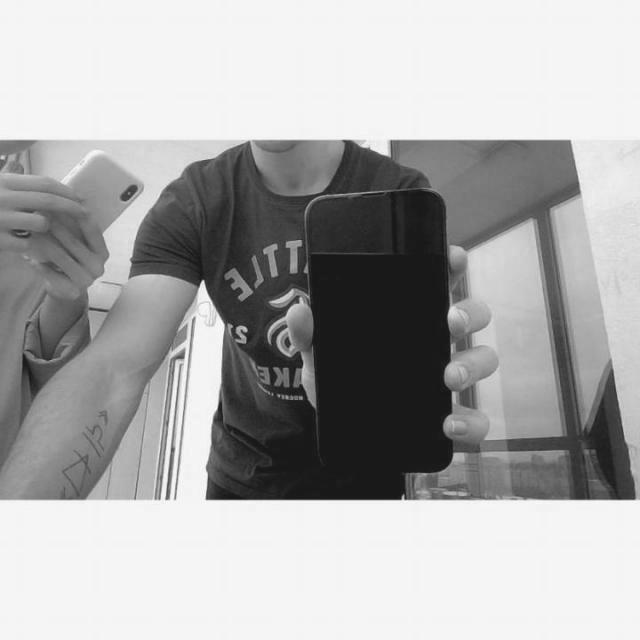fake: (298, 187, 457, 477)
